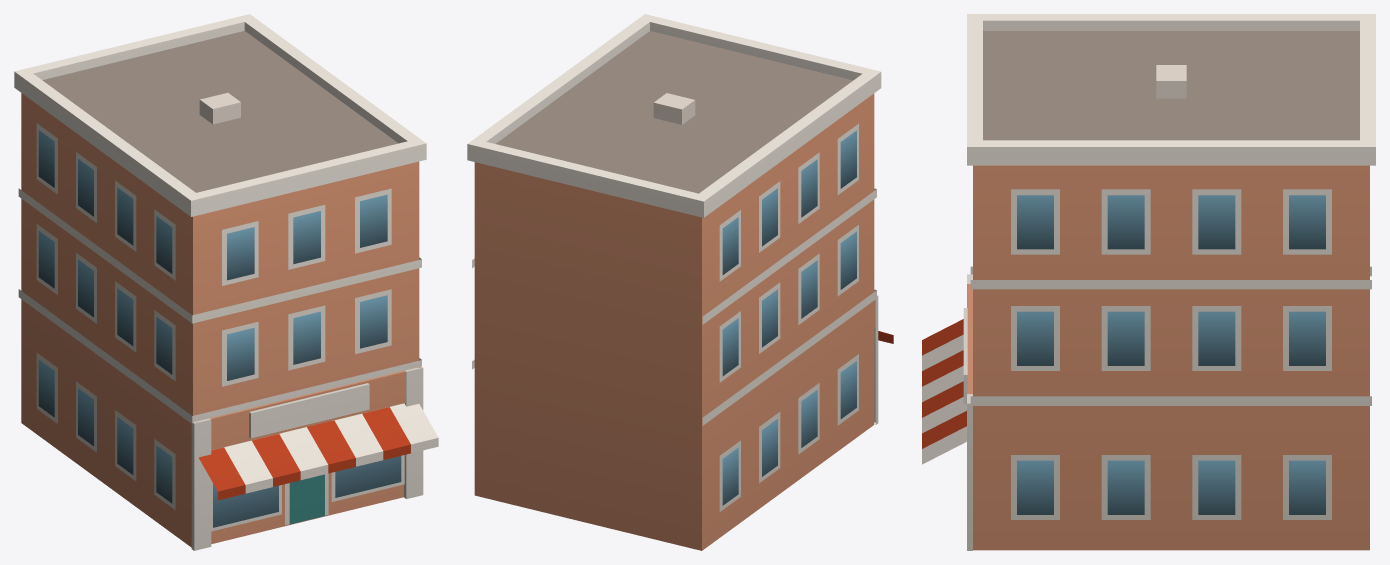
Rendered from tremont_e3_far.glb.
The picture shows the model from 3 angles, left to right: view 1: azimuth 30°, elevation 25°; view 2: azimuth 150°, elevation 25°; view 3: azimuth 270°, elevation 25°; orthographic projection. The views are drawn at different scales.
Visible parts, largest first — view 1: tremont_e3_far; view 2: tremont_e3_far; view 3: tremont_e3_far.
Part boxes in pixels (x1,y1,x2,y2): tremont_e3_far: (14, 14, 438, 550); tremont_e3_far: (467, 14, 893, 550); tremont_e3_far: (922, 14, 1375, 550).
Size of the model in its own units: 8.32 by 12.07 by 12.01.
Materials: 1 (1 with a texture image).
